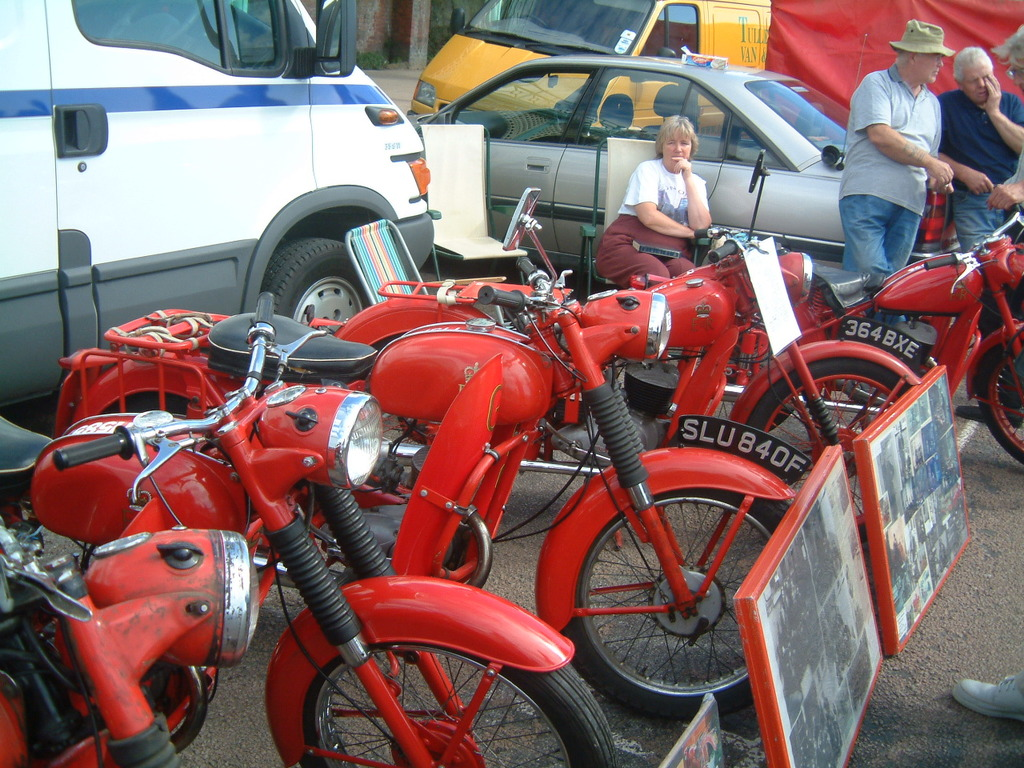Car: (403, 58, 957, 272)
